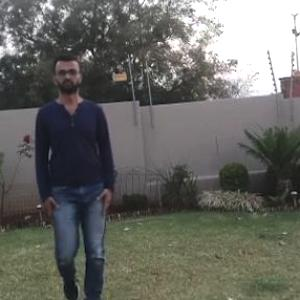follow: (41, 63, 113, 290)
